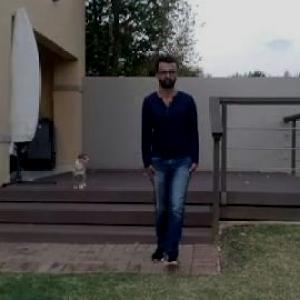follow: (129, 40, 198, 296)
